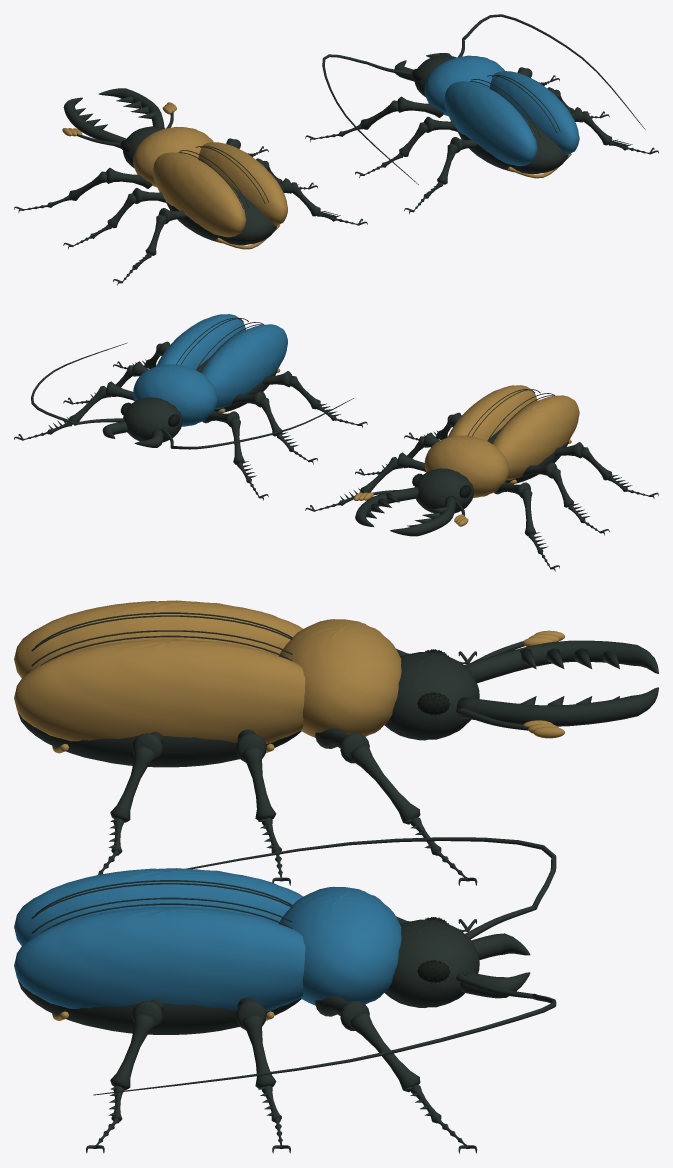
The picture shows the model from 3 angles, top to bottom: view 1: azimuth 30°, elevation 25°; view 2: azimuth 150°, elevation 25°; view 3: azimuth 270°, elevation 25°; orthographic projection. The views are drawn at different scales.
Visible parts, largest first — view 1: B03_SPEC_Chitin_export, B03_SPEC_Iridescent bronze_export, B03_SPEC_Iridescent blue_export; view 2: B03_SPEC_Chitin_export, B03_SPEC_Iridescent bronze_export, B03_SPEC_Iridescent blue_export, B03_SPEC_Eyes_export; view 3: B03_SPEC_Chitin_export, B03_SPEC_Iridescent bronze_export, B03_SPEC_Iridescent blue_export, B03_SPEC_Eyes_export.
Part boxes in pixels (x1,y1,x2,y2): B03_SPEC_Chitin_export: [14, 14, 658, 285]; B03_SPEC_Iridescent bronze_export: [62, 102, 571, 249]; B03_SPEC_Iridescent blue_export: [424, 55, 579, 166]; B03_SPEC_Chitin_export: [14, 318, 658, 571]; B03_SPEC_Iridescent bronze_export: [217, 368, 579, 526]; B03_SPEC_Iridescent blue_export: [133, 314, 287, 426]; B03_SPEC_Eyes_export: [120, 402, 471, 498]; B03_SPEC_Chitin_export: [18, 612, 658, 1153]; B03_SPEC_Iridescent bronze_export: [14, 600, 564, 1020]; B03_SPEC_Iridescent blue_export: [14, 868, 401, 1011]; B03_SPEC_Eyes_export: [416, 649, 450, 983].
Size of the model in its own units: 2.64 by 0.3705 by 1.45.
